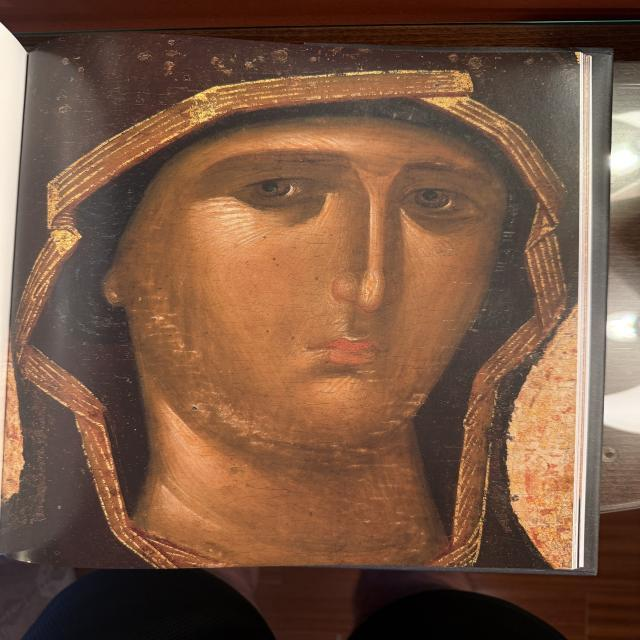mary_and_child: (35, 46, 578, 573)
